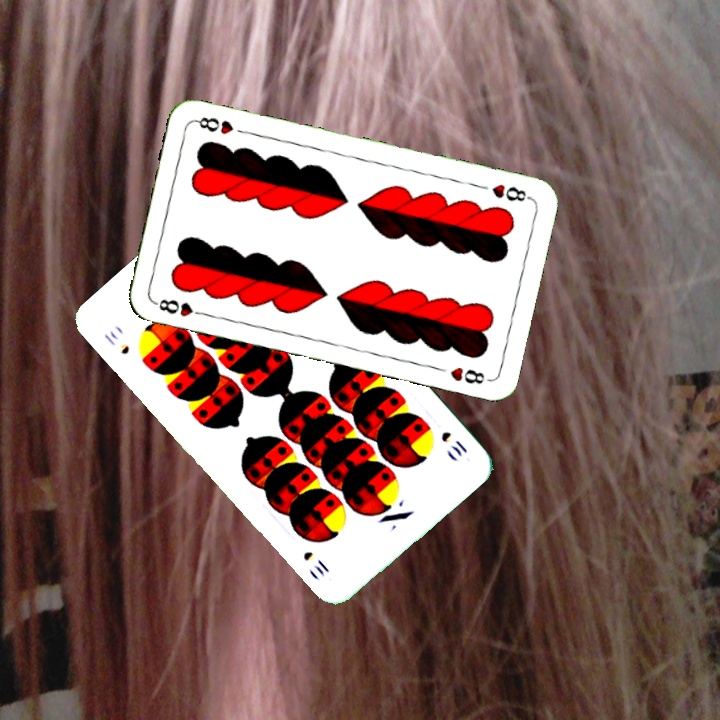H8: (150, 295, 209, 319), (487, 180, 533, 204)
S10: (437, 427, 470, 460), (99, 326, 132, 357)
